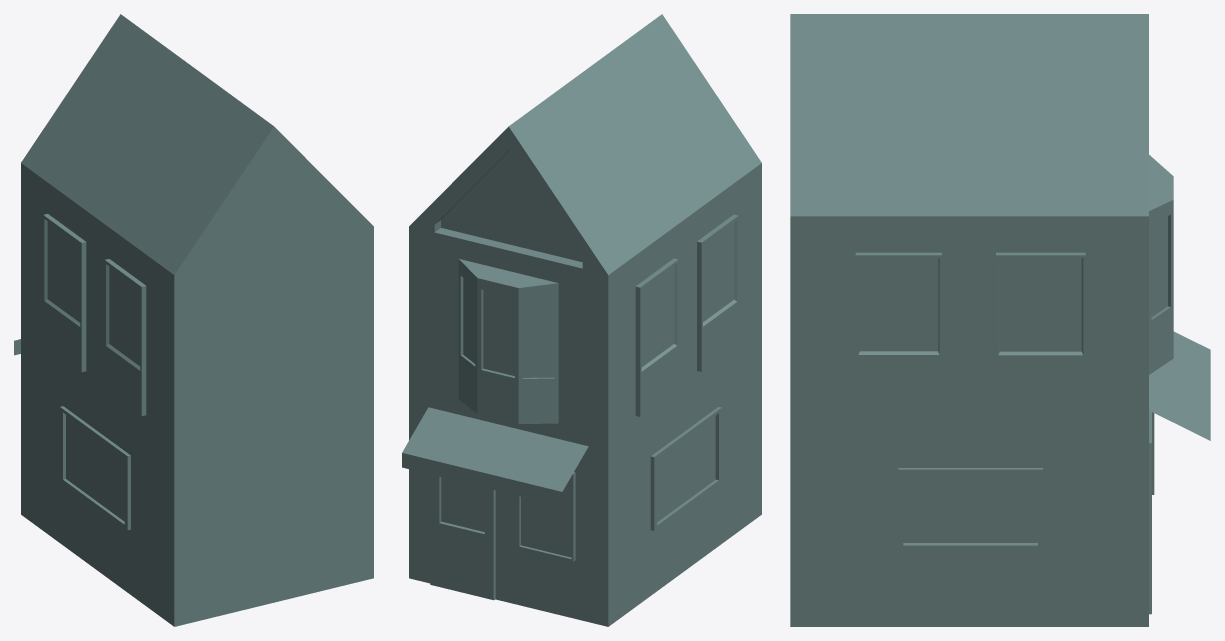
File: House02.fbx
3 views of the same model, side by side, from view 1: azimuth 30°, elevation 25°; view 2: azimuth 150°, elevation 25°; view 3: azimuth 270°, elevation 25° (orthographic). The views are drawn at different scales.
Visible parts, largest first — view 1: House02; view 2: House02; view 3: House02.
Part boxes in pixels (box(x1,y1,x2,y2)): House02: box(14, 14, 373, 626); House02: box(402, 14, 761, 626); House02: box(790, 14, 1210, 626).
Size of the model in its own units: 3.14 by 6.84 by 4.69.
